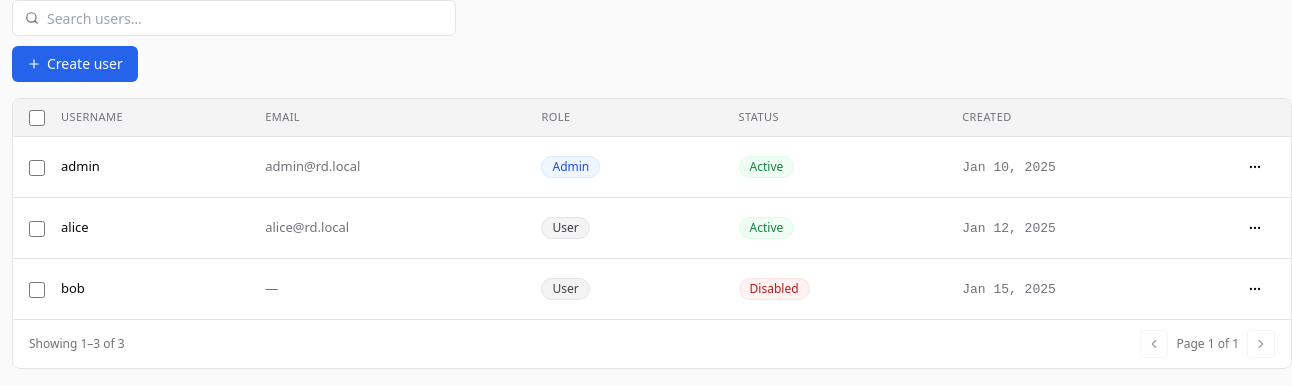
Test: <SettingsUsersTab /> › filters rows by username/email via the search box
Expected: the text "alice" is shown, [61,218,89,236]
Step 1. Type "bob" into the field with placeholder "Search users…" → (245,18), box [47,8,443,28]
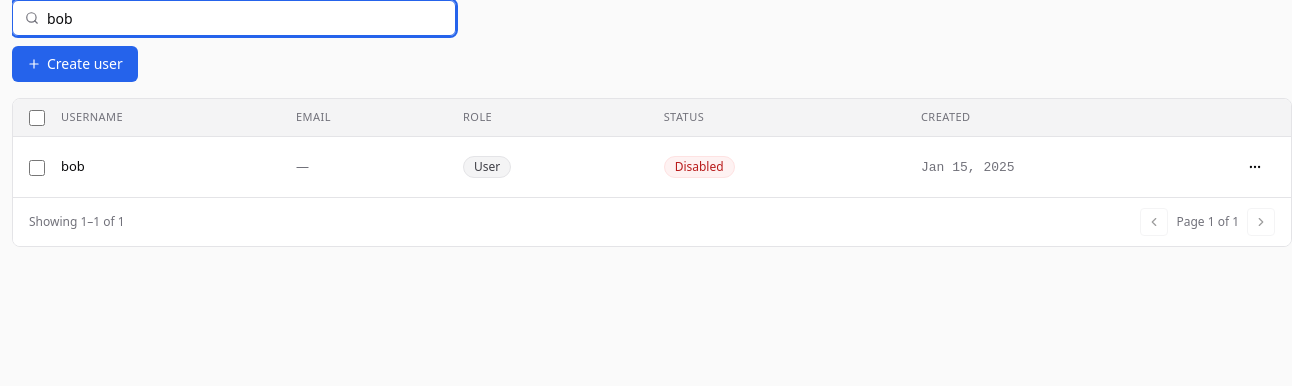
Expected: the text "bob" is shown, [61,157,85,175]
Expected: the text "alice" is gone
